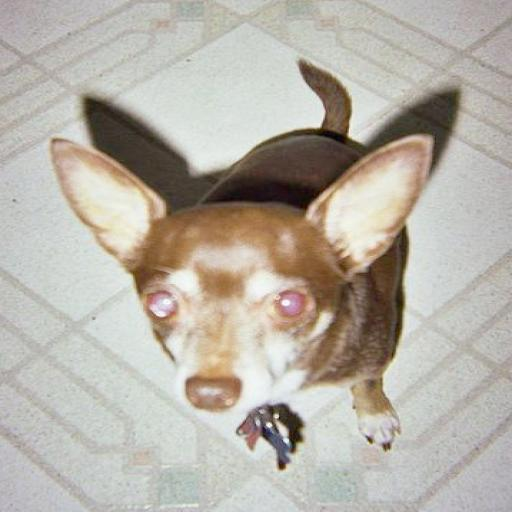dog_face: (42, 127, 419, 420)
